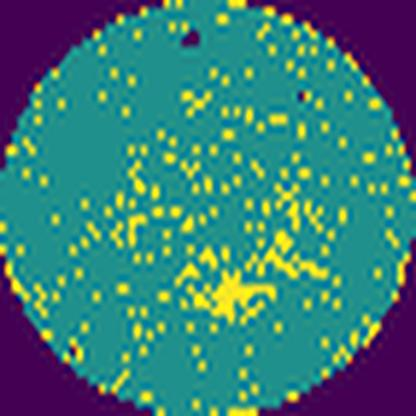Loc: (184, 264, 282, 327), (244, 229, 336, 283)
